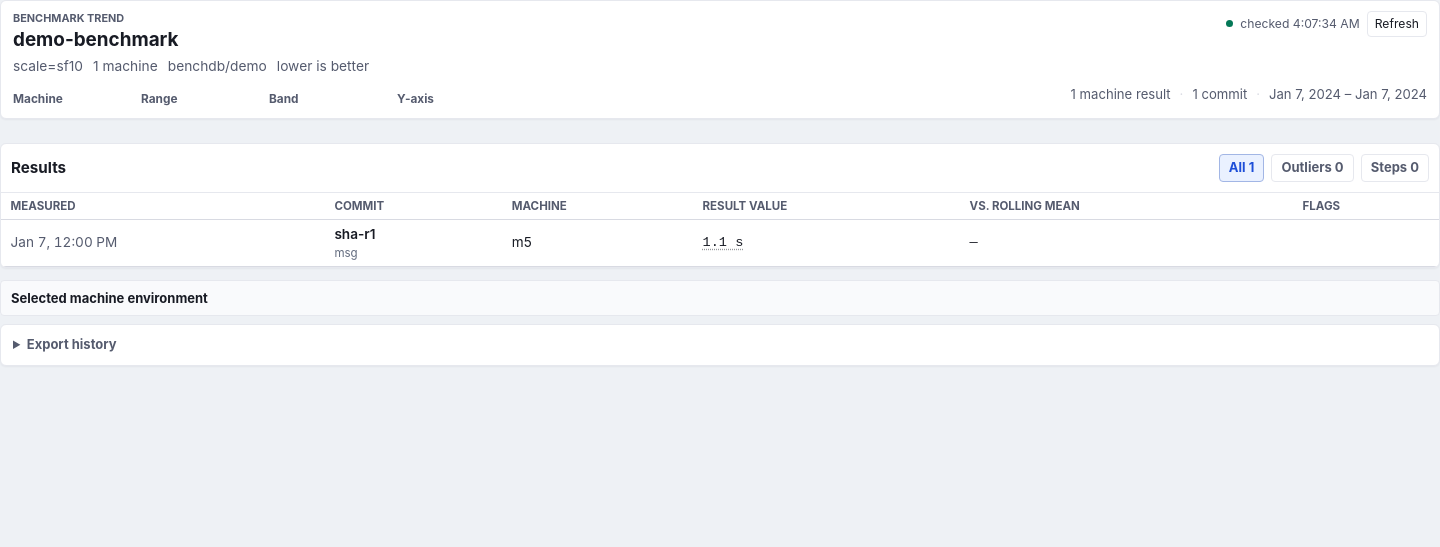
TrendPage › clears the compare picks
This screenshot has width=1440, height=547.
Expected: the text "sha-r1" is shown, left=334, top=226, right=376, bottom=242
What coordinates should you click on to do the following:
click the text "sha-r1"
I would click on:
 (720, 243)
Its box is left=1, top=220, right=1439, bottom=267.
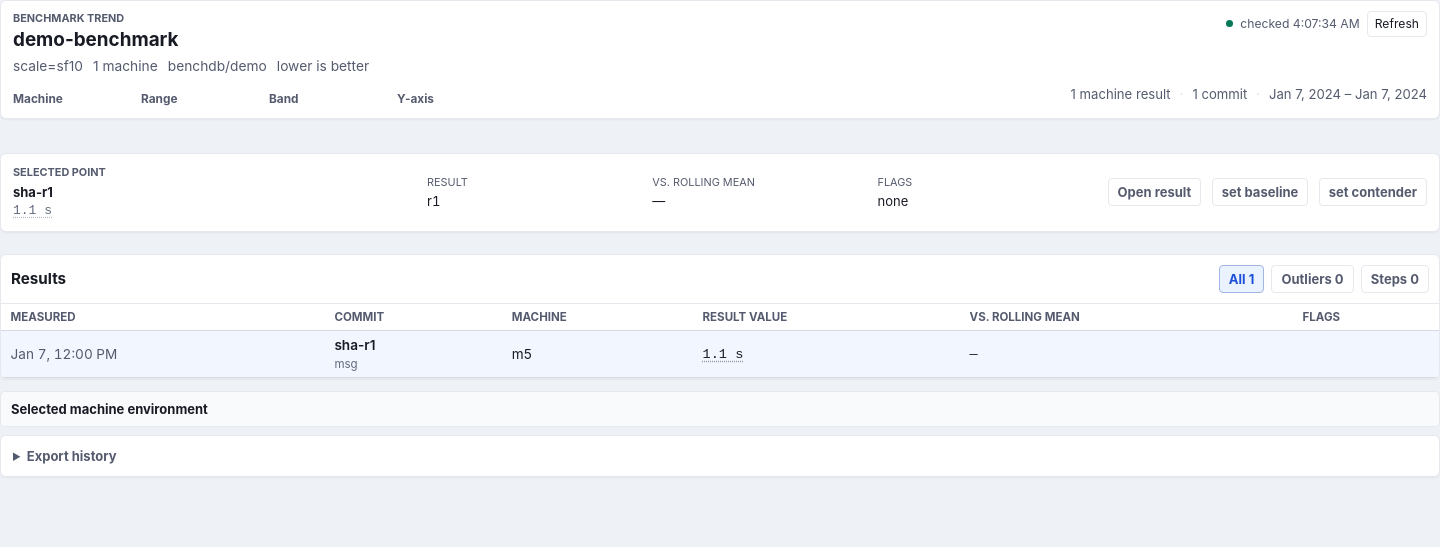
What coordinates should you click on to do the following:
click the button "set baseline"
I would click on:
 (1260, 192)
Its box is left=1212, top=178, right=1308, bottom=206.
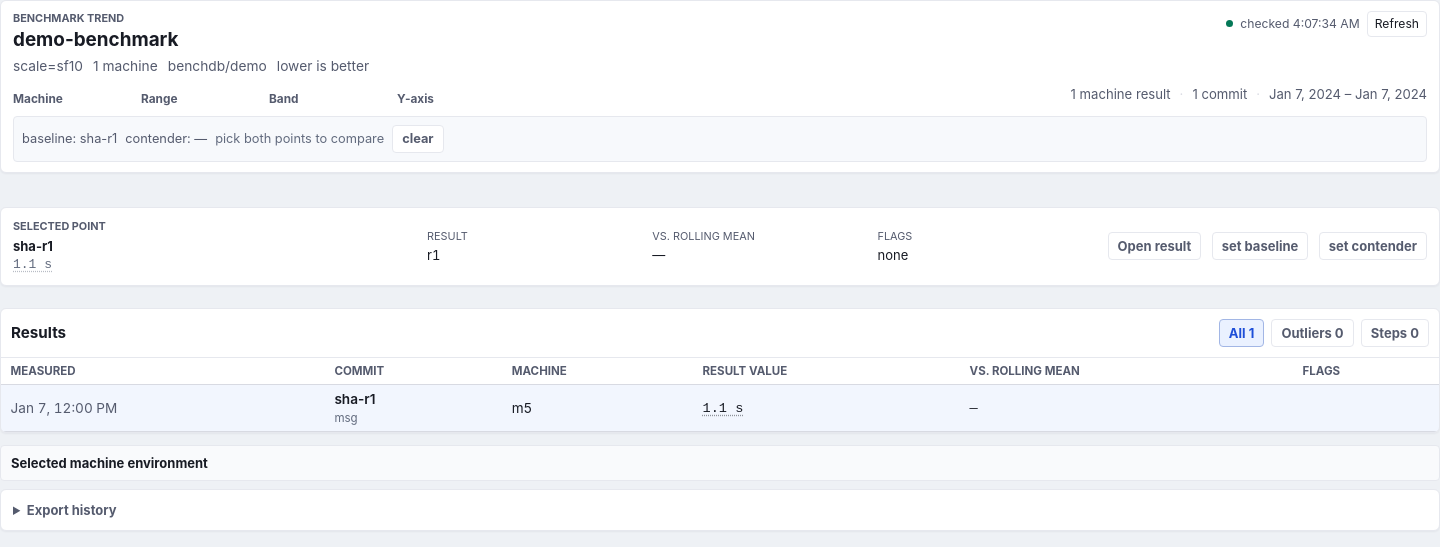
What coordinates should you click on to do the following:
click the button "clear"
I would click on:
 (418, 139)
Its box is left=392, top=125, right=444, bottom=153.
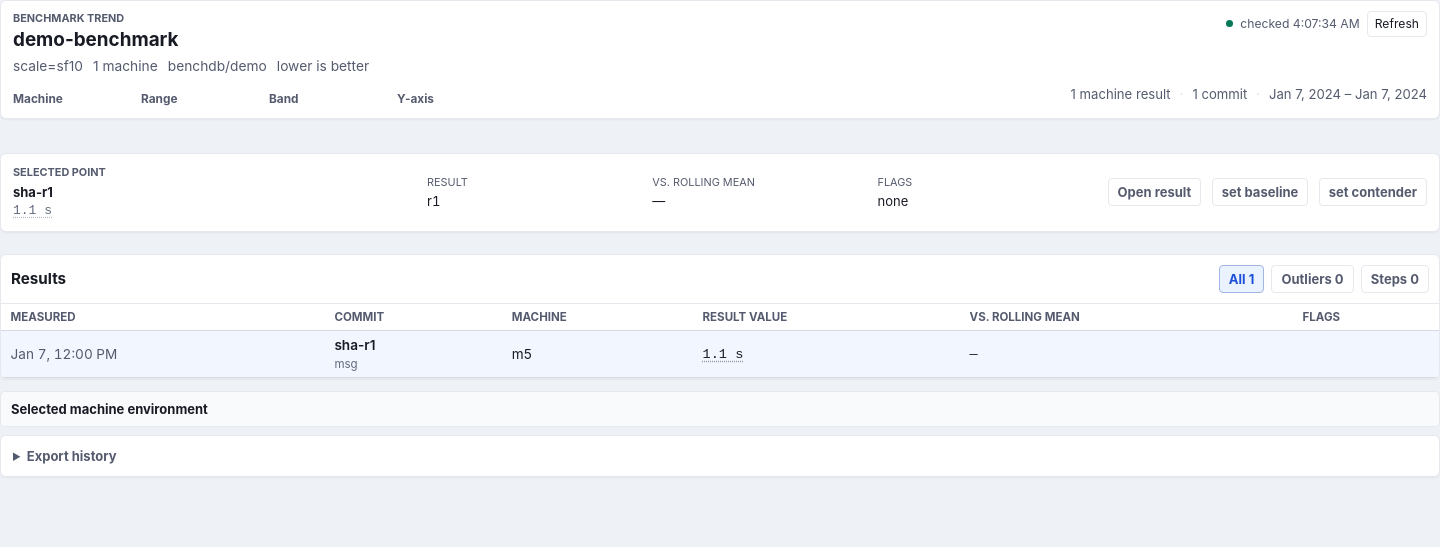
Expected: the text "pick both points to compare" is gone
